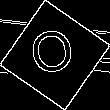O_S: (29, 26, 81, 84)
